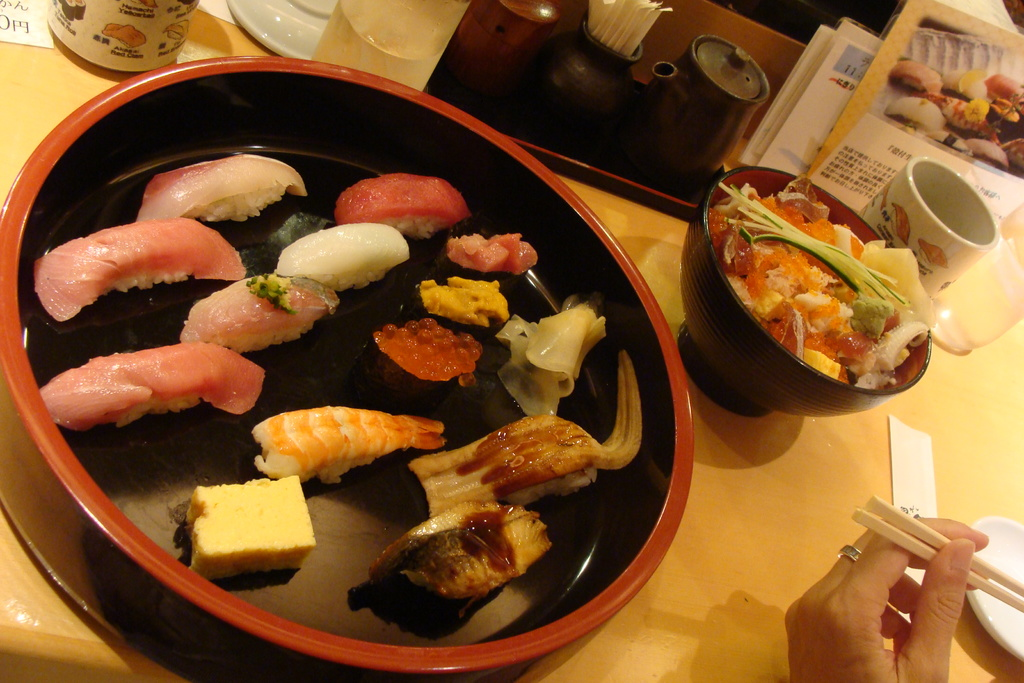sushi: (36, 152, 536, 490), (46, 337, 266, 441), (889, 63, 1020, 175)
